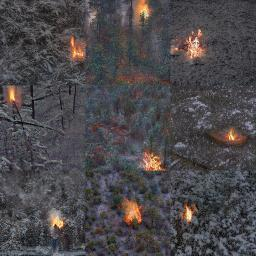Small fire: (165, 20, 219, 72), (205, 109, 252, 156), (58, 25, 97, 67), (115, 191, 152, 235), (0, 80, 37, 119), (136, 148, 175, 180), (44, 204, 73, 247), (126, 0, 165, 30), (176, 198, 205, 231)
